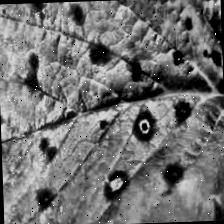Leaf Spot: (0, 0, 224, 224), (154, 0, 223, 90)
